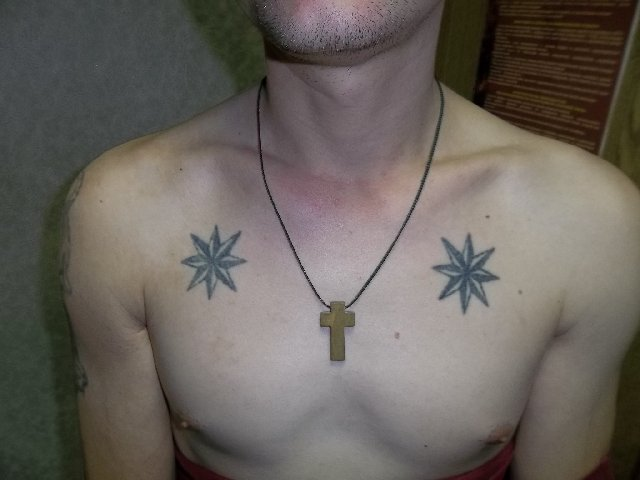tatu4_zvezda: (431, 232, 501, 317), (181, 224, 247, 303)
